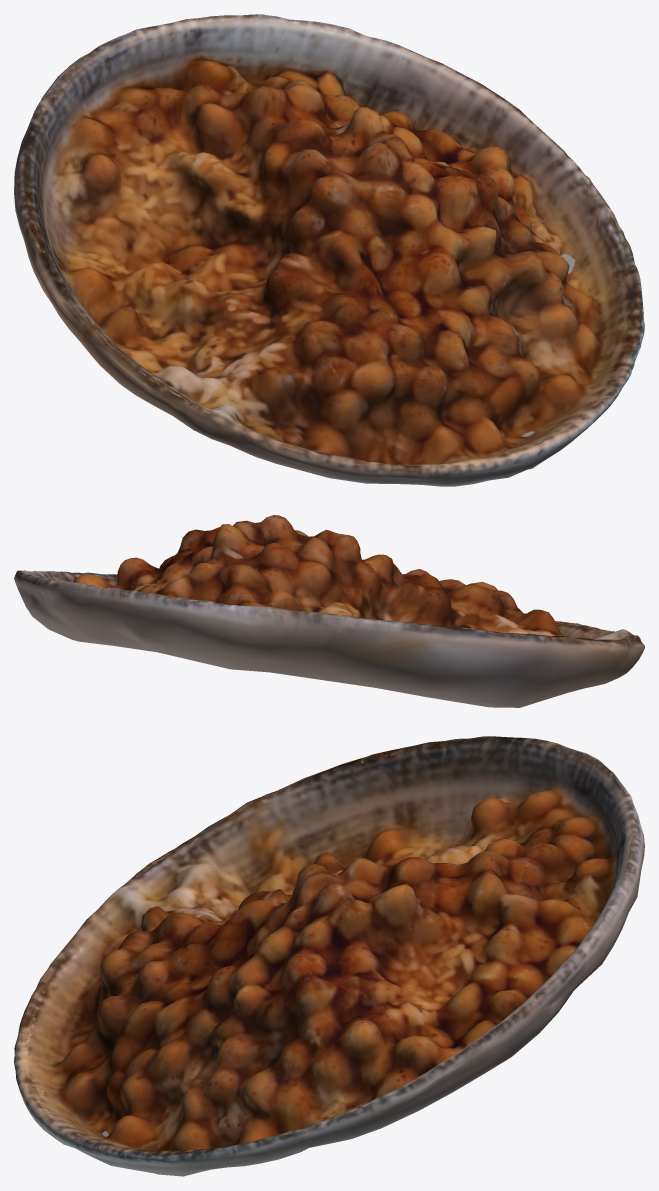
3 views of the same model, one above another, from view 1: azimuth 30°, elevation 25°; view 2: azimuth 150°, elevation 25°; view 3: azimuth 270°, elevation 25° (orthographic). The views are drawn at different scales.
Visible parts, largest first — view 1: ObjectCapture; view 2: ObjectCapture; view 3: ObjectCapture.
Boxes of the visible parts, left/top/right/bottom form: ObjectCapture: left=14, top=14, right=644, bottom=486; ObjectCapture: left=14, top=515, right=644, bottom=707; ObjectCapture: left=14, top=736, right=644, bottom=1176.
Bounding box in the file's own units: 0.5094 × 0.2265 × 0.4702.
1 material, 1 textured.
